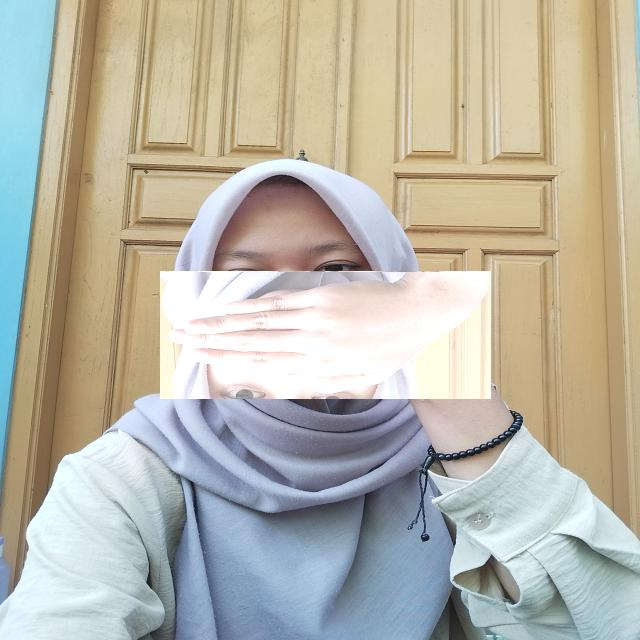buruk: (160, 271, 491, 399)
